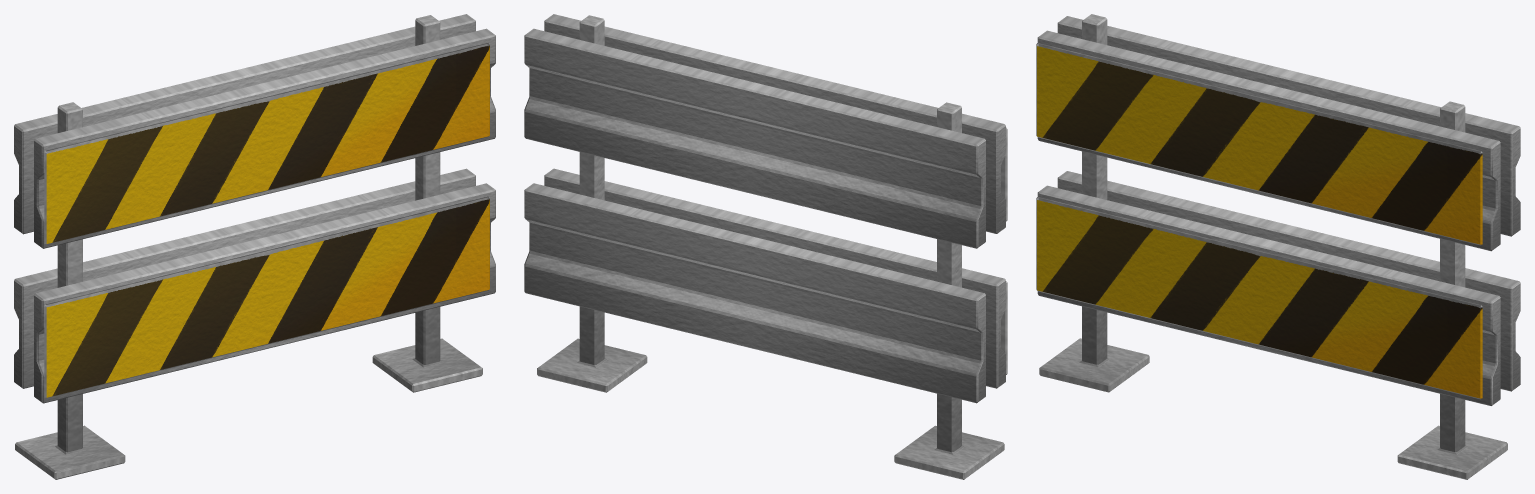
Rendered from Barrier_Double_Short_Left.fbx.
3 views of the same model, side by side, from view 1: azimuth 30°, elevation 25°; view 2: azimuth 150°, elevation 25°; view 3: azimuth 330°, elevation 25° (orthographic).
Visible parts, largest first — view 1: Barrier_Double_Short_Left; view 2: Barrier_Double_Short_Left; view 3: Barrier_Double_Short_Left.
Boxes of the visible parts, x1=… form: Barrier_Double_Short_Left: x1=14, y1=14, x2=495, y2=479; Barrier_Double_Short_Left: x1=524, y1=14, x2=1007, y2=479; Barrier_Double_Short_Left: x1=1036, y1=14, x2=1520, y2=479.
Bounding box in the file's own units: 78.8 × 58.1 × 12.31.
Materials: 2 (2 with a texture image).
